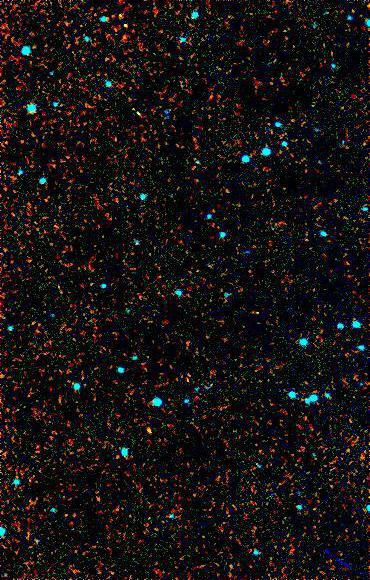star: (133, 424, 163, 454)
